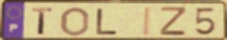5: (194, 7, 218, 36)
I: (142, 6, 153, 37)
L: (95, 7, 121, 36)
O: (59, 6, 91, 37)
T: (31, 7, 55, 36)
Z: (158, 6, 188, 37)
